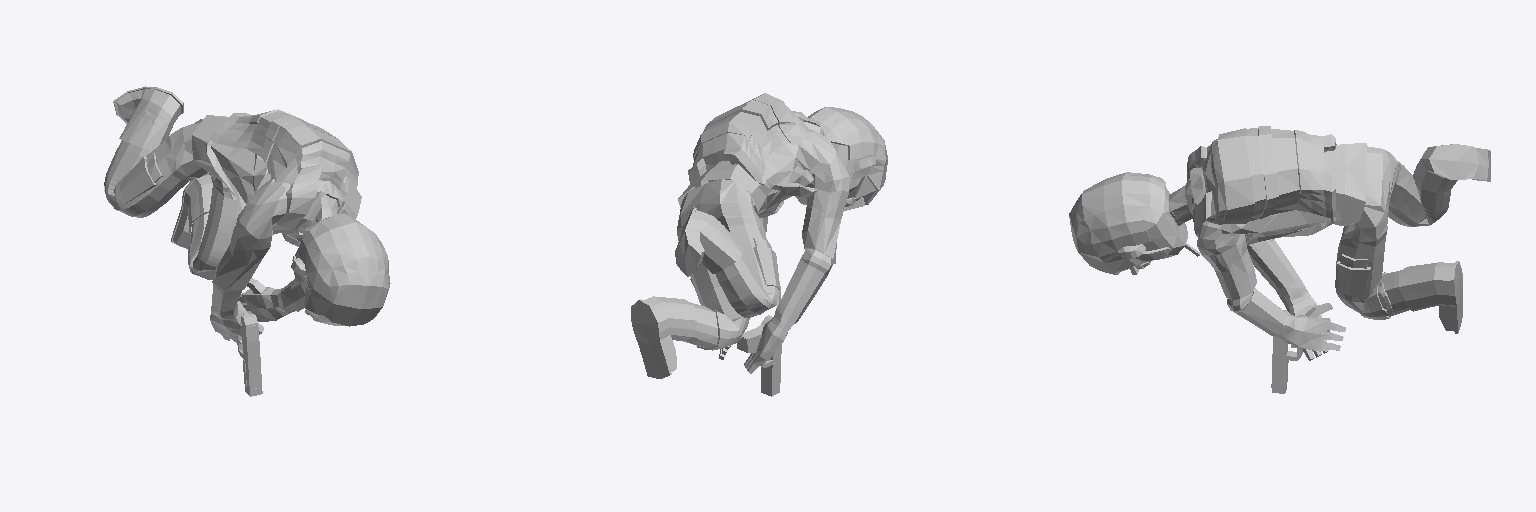
The model's file is frame_0054.obj.
3 renders of one model, left to right at view 1: azimuth 30°, elevation 25°; view 2: azimuth 150°, elevation 25°; view 3: azimuth 270°, elevation 25°, orthographic.
Parts seen in each view (by area): view 1: Body, Gun; view 2: Body, Gun; view 3: Body, Gun.
Part boxes in pixels (x1,y1,x2,y2): Body: (104,86,390,342); Gun: (237,301,262,396); Body: (631,93,887,378); Gun: (737,315,781,396); Body: (1069,126,1490,360); Gun: (1271,310,1329,393).
Bounding box in the file's own units: 1.42 × 2.41 × 3.38.